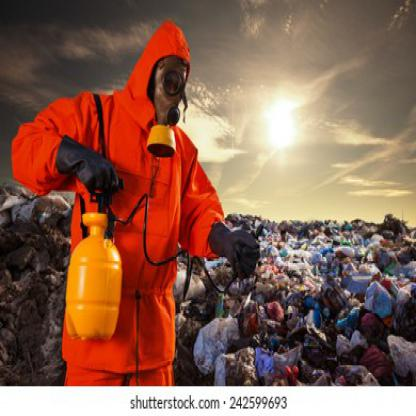glove: (57, 135, 119, 204), (208, 223, 259, 281)
